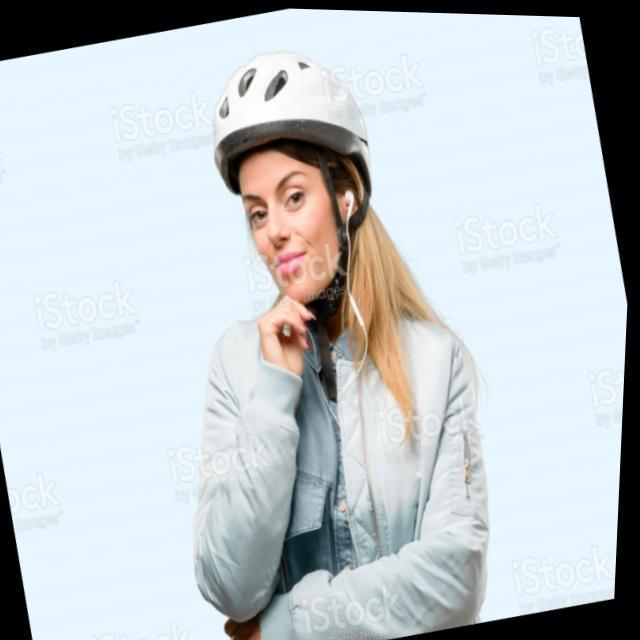Helmet: (210, 43, 374, 310)
